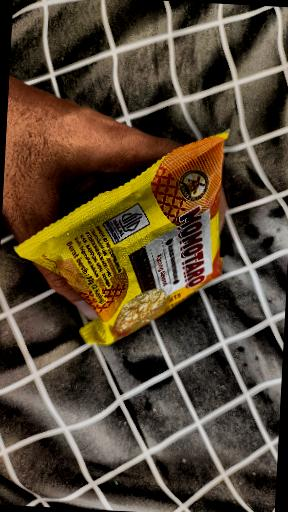momotaro: (27, 118, 242, 411)
